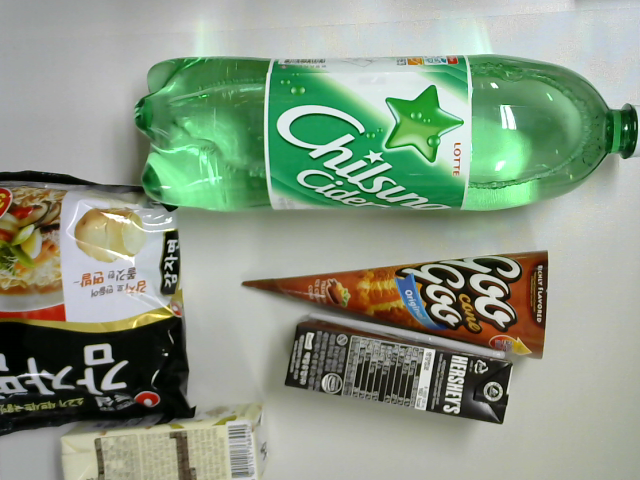99.89_Soymilk: (55, 394, 279, 480)
Chilseong_Cider_1.5L: (132, 41, 640, 224)
GooGoo_Cone_CVS: (230, 244, 561, 368)
Hush_Choco_Drink: (278, 313, 518, 433)
Potato: (1, 163, 197, 444)
